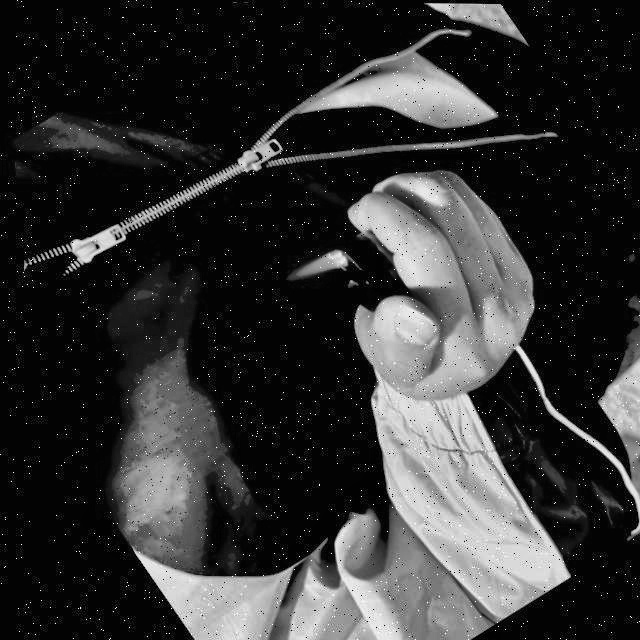Fire: (268, 243, 343, 302)
